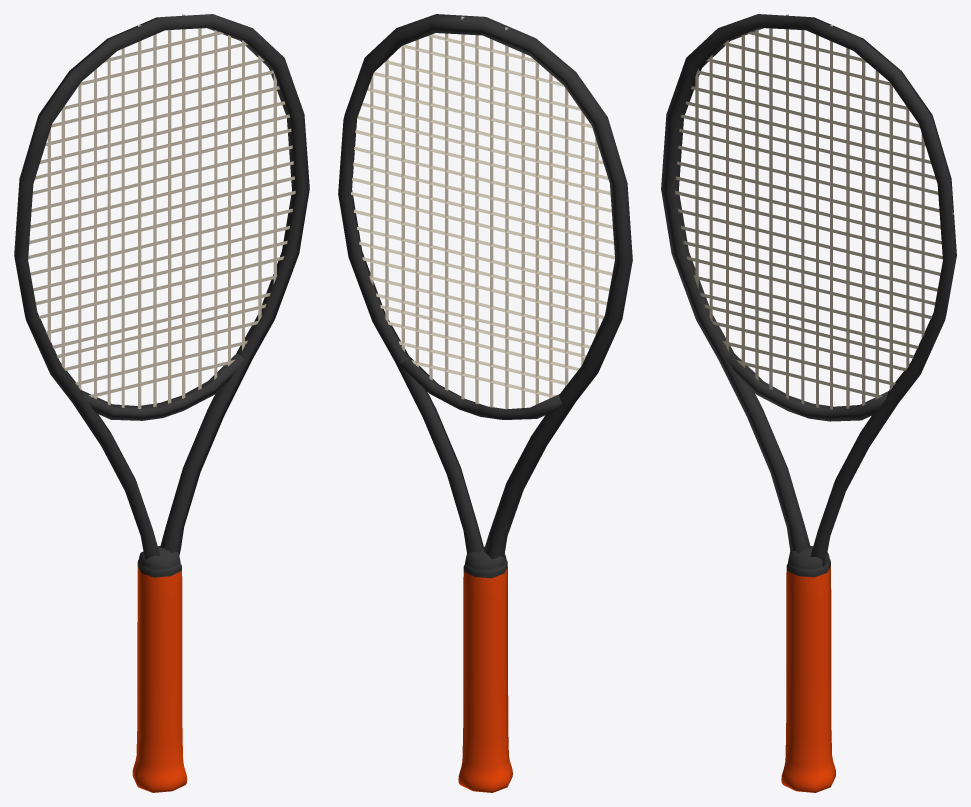
The model's file is Tennis_Racquet_4_Cube.1755.obj.
The picture shows the model from 3 angles, left to right: view 1: azimuth 30°, elevation 25°; view 2: azimuth 150°, elevation 25°; view 3: azimuth 330°, elevation 25°; orthographic projection.
Bounding box in the file's own units: 0.0219 × 0.0546 × 0.00344.
